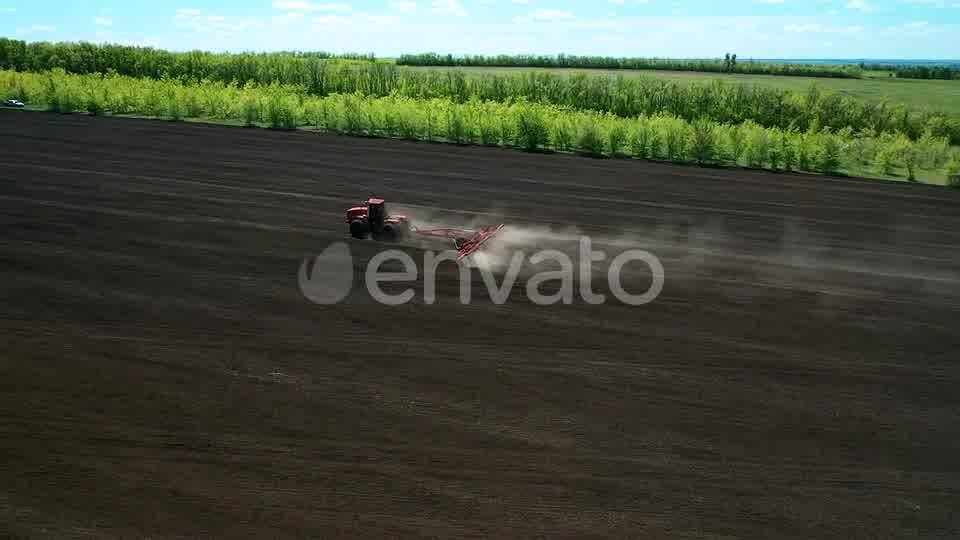tractor: (343, 196, 414, 243)
